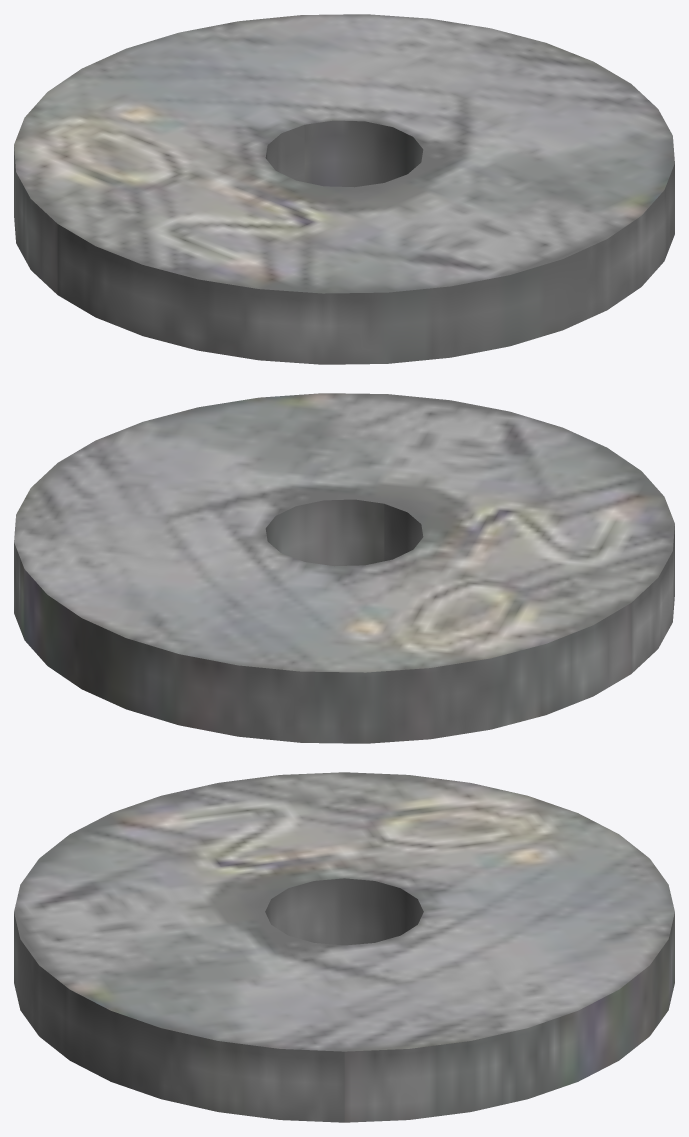
File: poker_chip_v20_grey.glb
3 renders of one model, top to bottom at view 1: azimuth 30°, elevation 25°; view 2: azimuth 150°, elevation 25°; view 3: azimuth 270°, elevation 25°, orthographic.
Parts seen in each view (by area): view 1: v20_grey_LOD0; view 2: v20_grey_LOD0; view 3: v20_grey_LOD0.
Part boxes in pixels (x1=…): v20_grey_LOD0: x1=14, y1=14, x2=674, y2=364; v20_grey_LOD0: x1=14, y1=393, x2=674, y2=743; v20_grey_LOD0: x1=14, y1=772, x2=674, y2=1122.
Size of the model in its own units: 0.0442 by 0.00524 by 0.0442.
Materials: 1 (1 with a texture image).
